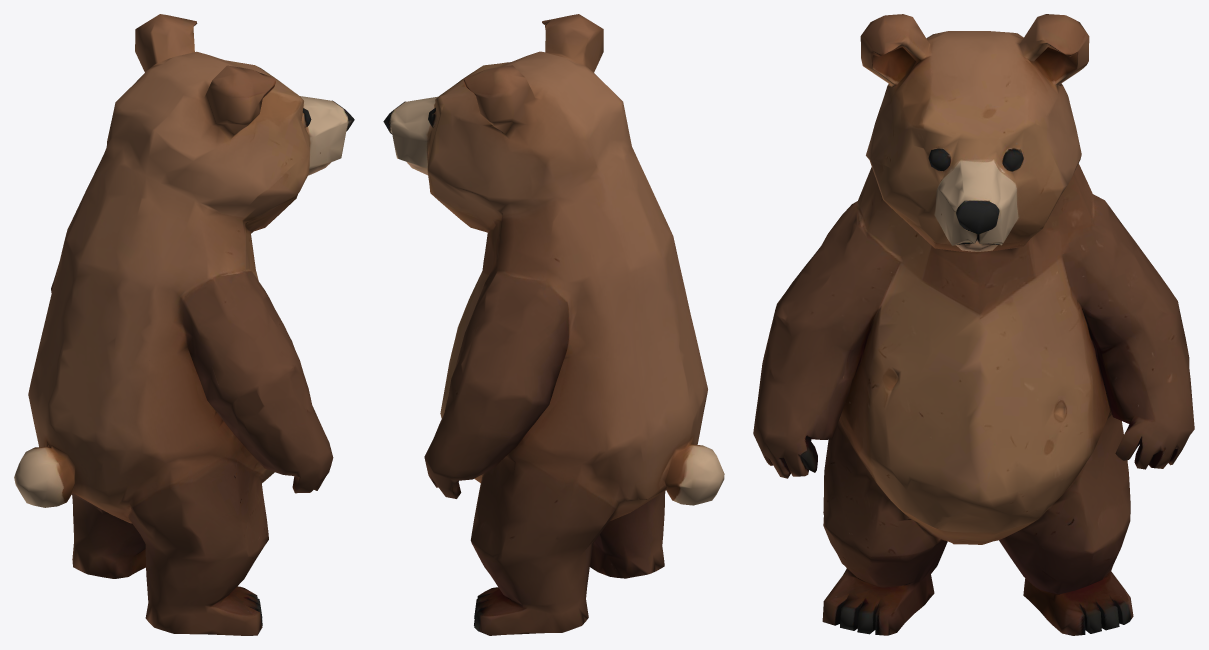
Rendered from bear.glb.
3 renders of one model, left to right at view 1: azimuth 30°, elevation 25°; view 2: azimuth 150°, elevation 25°; view 3: azimuth 270°, elevation 25°, orthographic. The views are drawn at different scales.
Visible parts, largest first — view 1: tripo_node_15e903f4-9eb8-4391-a218-64aa85243f82; view 2: tripo_node_15e903f4-9eb8-4391-a218-64aa85243f82; view 3: tripo_node_15e903f4-9eb8-4391-a218-64aa85243f82.
Boxes of the visible parts, <box> form: tripo_node_15e903f4-9eb8-4391-a218-64aa85243f82: <box>14,14,354,635</box>; tripo_node_15e903f4-9eb8-4391-a218-64aa85243f82: <box>383,14,724,635</box>; tripo_node_15e903f4-9eb8-4391-a218-64aa85243f82: <box>753,14,1194,635</box>.
Bounding box in the file's own units: 0.6378 × 1 × 0.6531.
Materials: 1 (1 with a texture image).
